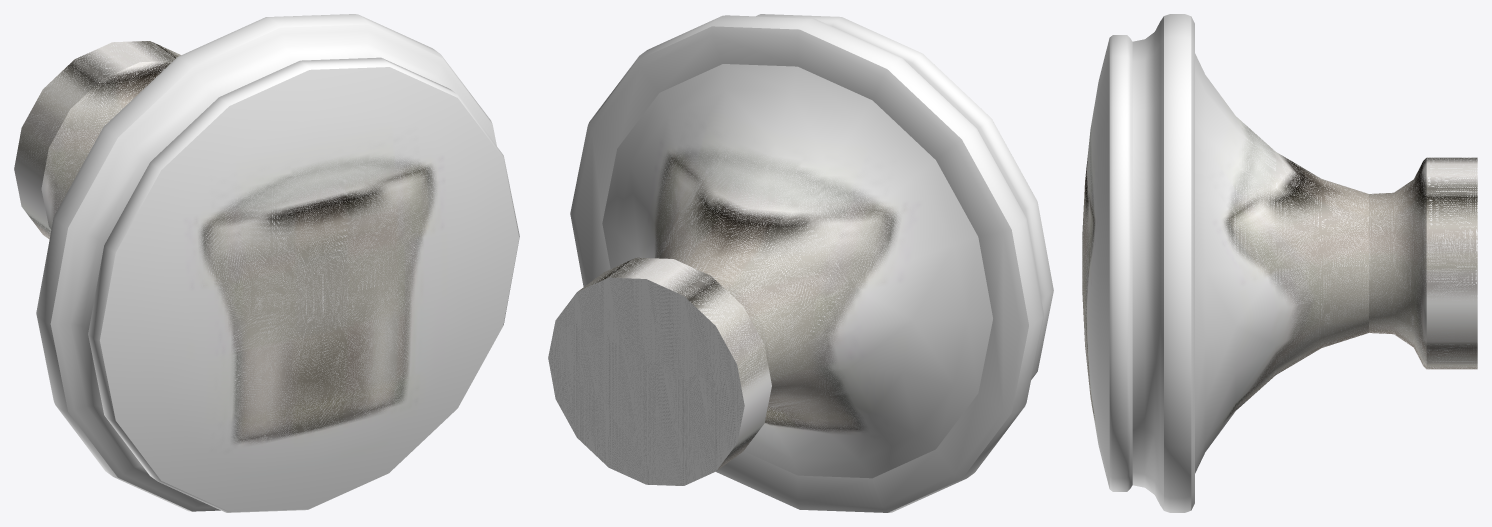
Rendered from original-58.obj.
The picture shows the model from 3 angles, left to right: view 1: azimuth 30°, elevation 25°; view 2: azimuth 150°, elevation 25°; view 3: azimuth 270°, elevation 25°; orthographic projection. The views are drawn at different scales.
Parts seen in each view (by area): view 1: _7155-PC_RT1/_7155-PC_RT/mesh43/mesh43-geometry#mesh43-geometry; view 2: _7155-PC_RT1/_7155-PC_RT/mesh43/mesh43-geometry#mesh43-geometry; view 3: _7155-PC_RT1/_7155-PC_RT/mesh43/mesh43-geometry#mesh43-geometry.
Part boxes in pixels (x1,y1,x2,y2): _7155-PC_RT1/_7155-PC_RT/mesh43/mesh43-geometry#mesh43-geometry: (14, 14, 519, 512); _7155-PC_RT1/_7155-PC_RT/mesh43/mesh43-geometry#mesh43-geometry: (548, 14, 1053, 512); _7155-PC_RT1/_7155-PC_RT/mesh43/mesh43-geometry#mesh43-geometry: (1082, 14, 1477, 512).
Bounding box in the file's own units: 0.0676 × 0.0676 × 0.0535.
